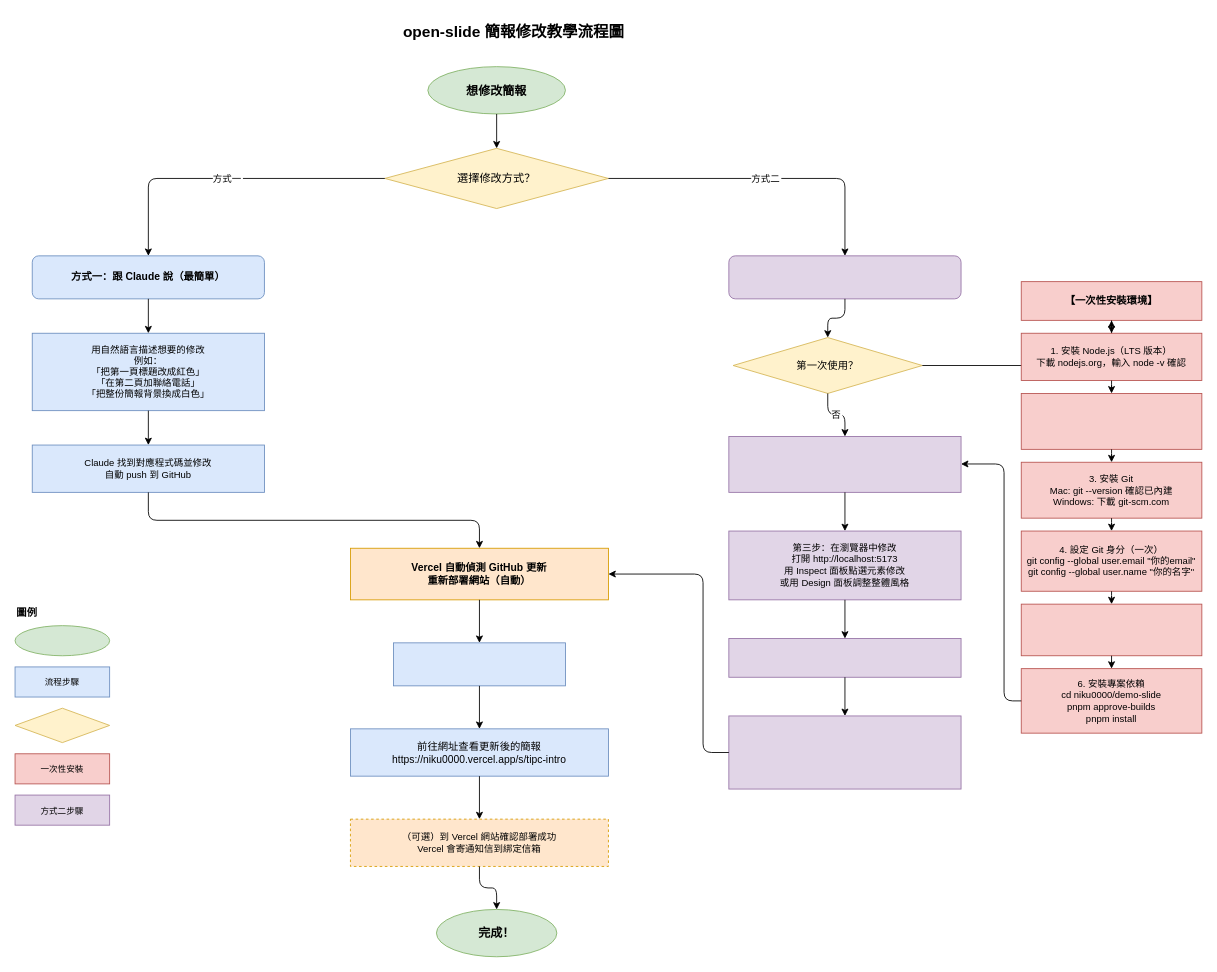
This 1217x972 diagram has some shape labels left out. The box of each missing label's shape, as (x1, y1, x2, y2) in pixels:
2. 安裝 pnpm 用 cmd 輸入：npm install -g pnpm ⚠️ 用 cmd，不要用 PowerShell: (1020, 393, 1202, 449)
5. 下載專案到本機 git clone https://github.com/niku0000/niku0000.git: (1020, 603, 1202, 656)
判斷 / 決策: (14, 707, 110, 743)
按 Save 儲存修改: (728, 638, 961, 677)
方式二：視覺編輯器: (728, 255, 961, 299)
第二步：啟動編輯器 cd demo-slide 資料夾 執行 pnpm dev: (728, 436, 961, 492)
第四步：發布到網路 開第二個 PowerShell 視窗輸入： git add . git commit -m "修改簡報內容" git push: (728, 715, 961, 789)
等待 1–2 分鐘: (393, 642, 565, 686)
開始 / 結束: (14, 625, 110, 656)
